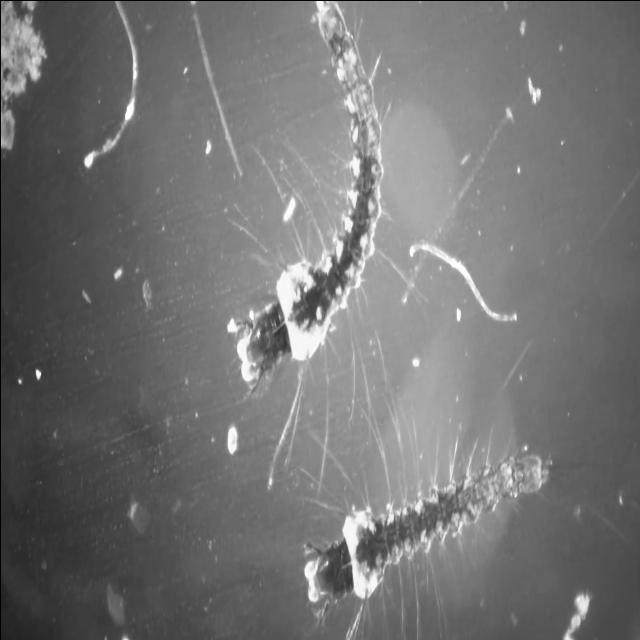larvas: (233, 0, 384, 383), (303, 462, 547, 605)
